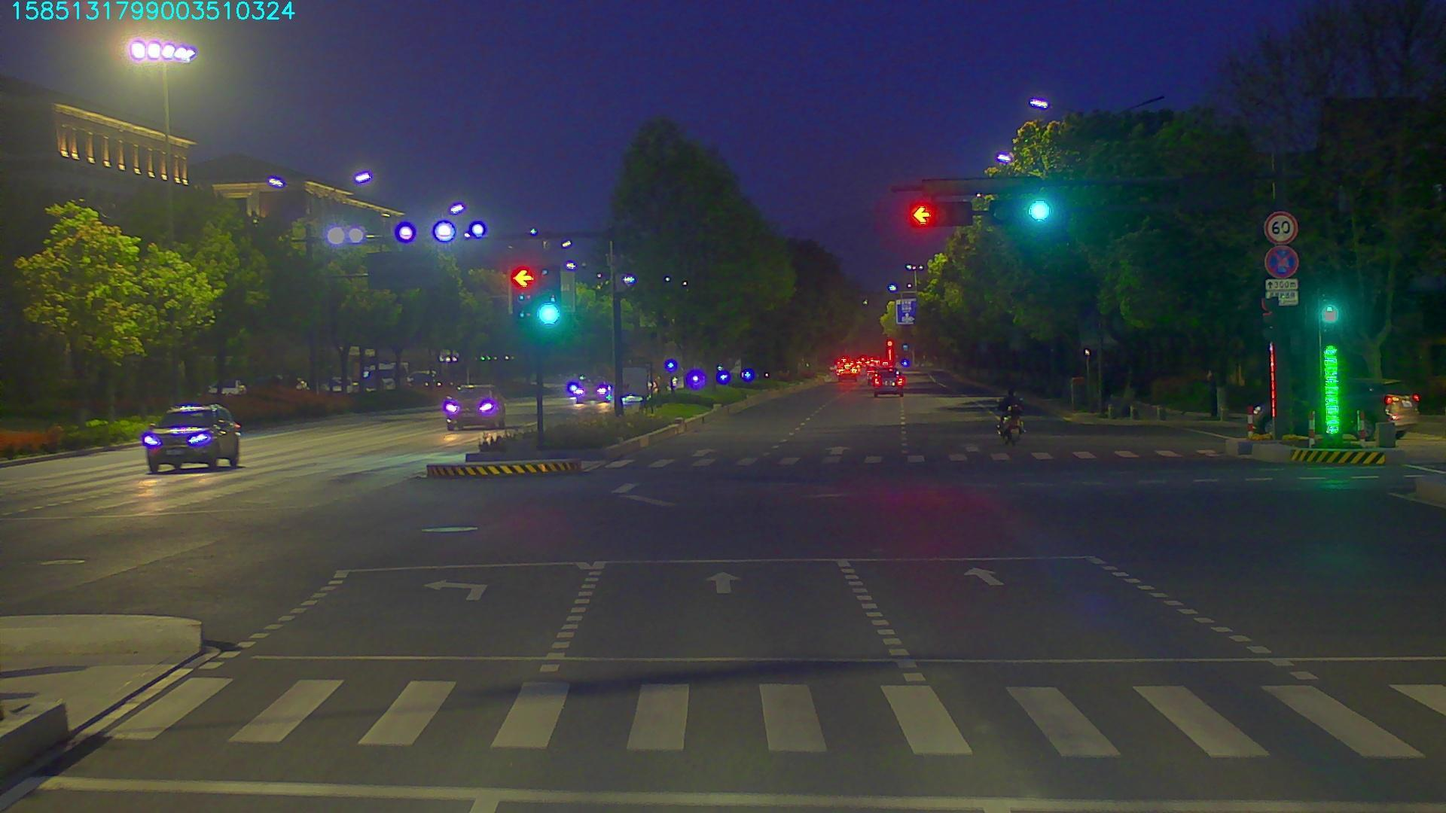green: (990, 196, 1048, 221)
red: (914, 205, 968, 224)
